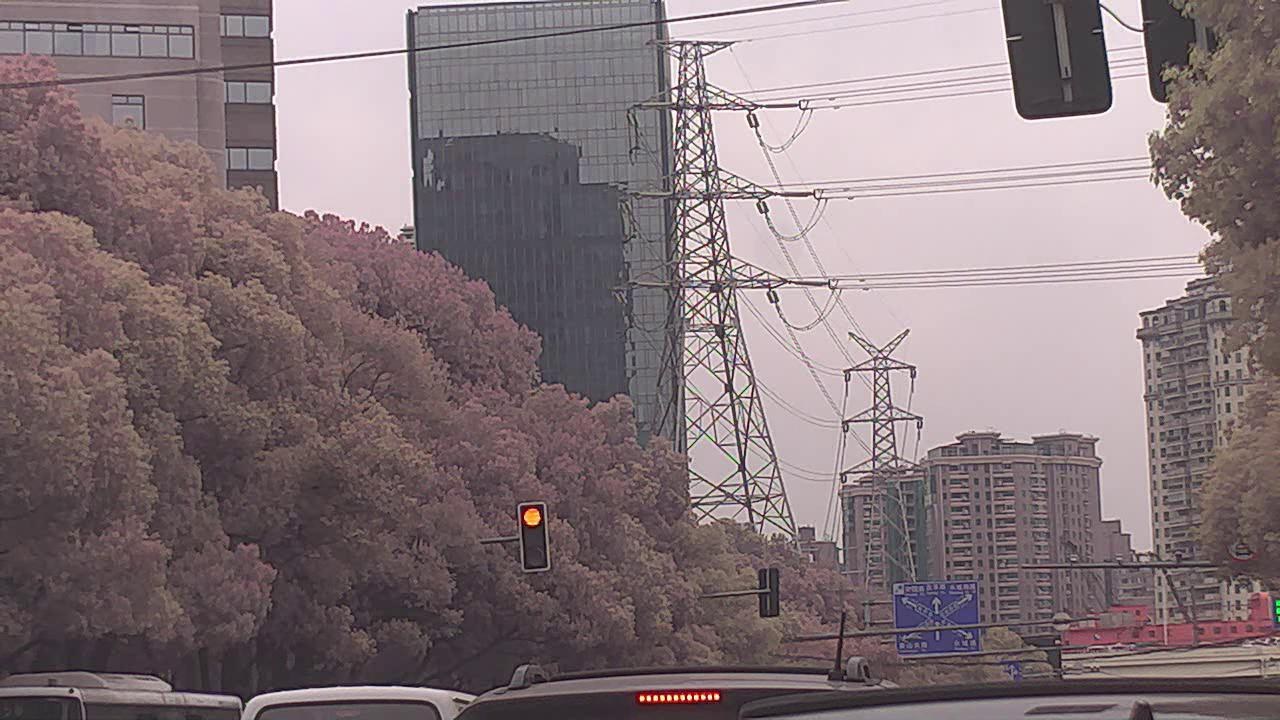traffic_light: (518, 504, 550, 571)
